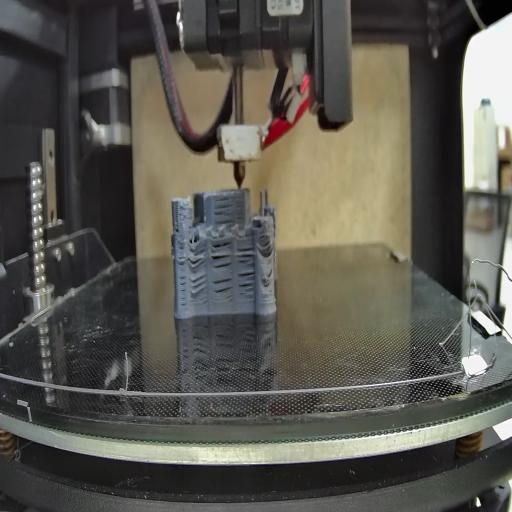cracks: (213, 196, 237, 226), (212, 239, 232, 271), (212, 279, 234, 302), (237, 272, 255, 300), (179, 246, 187, 307), (188, 246, 207, 268), (189, 275, 208, 297), (237, 244, 256, 264), (260, 235, 274, 257), (264, 264, 274, 280), (173, 222, 182, 235)
